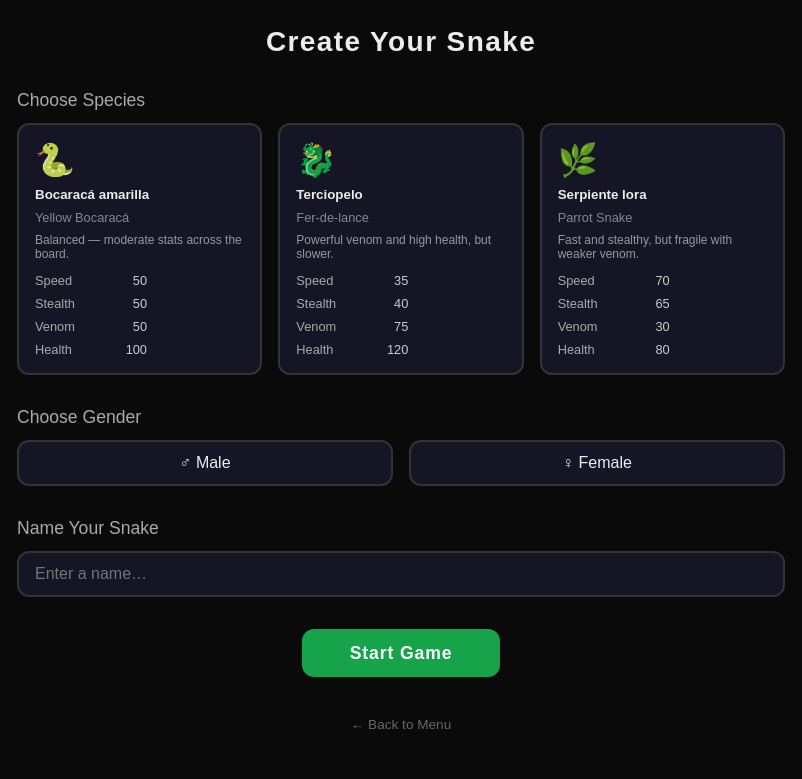
it: CharacterCreationPage › SC-2.2.2: Full creation flow › shows validation error when Start is clicked without selecting gender
The image size is (802, 779).
Click the radio button that starts with "Bocaracá amarilla" at coordinates (140, 249), box [17,123,262,375]
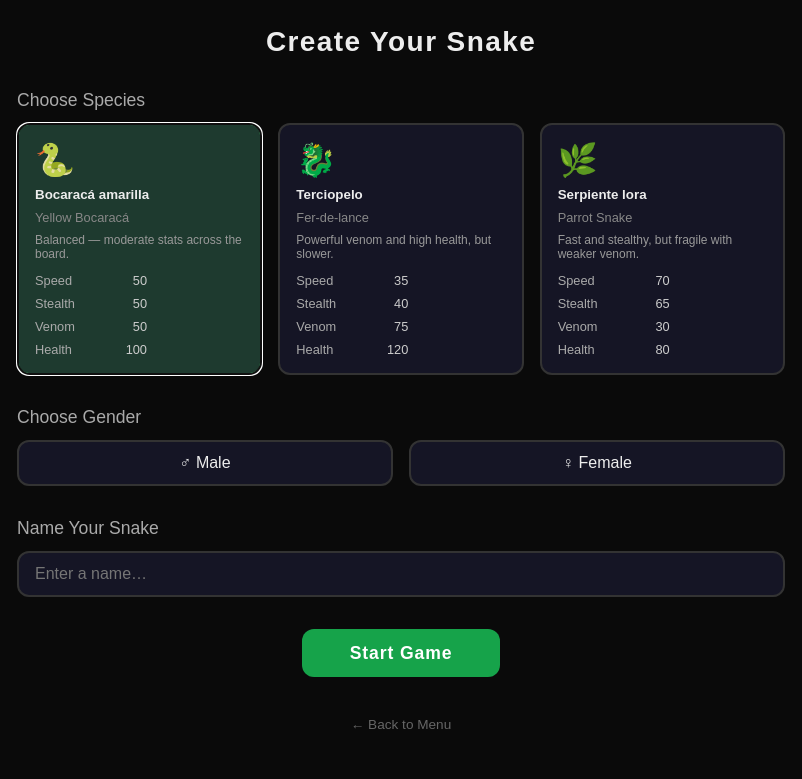
Type "Test" into the field labelled "Name Your Snake" at coordinates (401, 574), box [17,551,785,597]
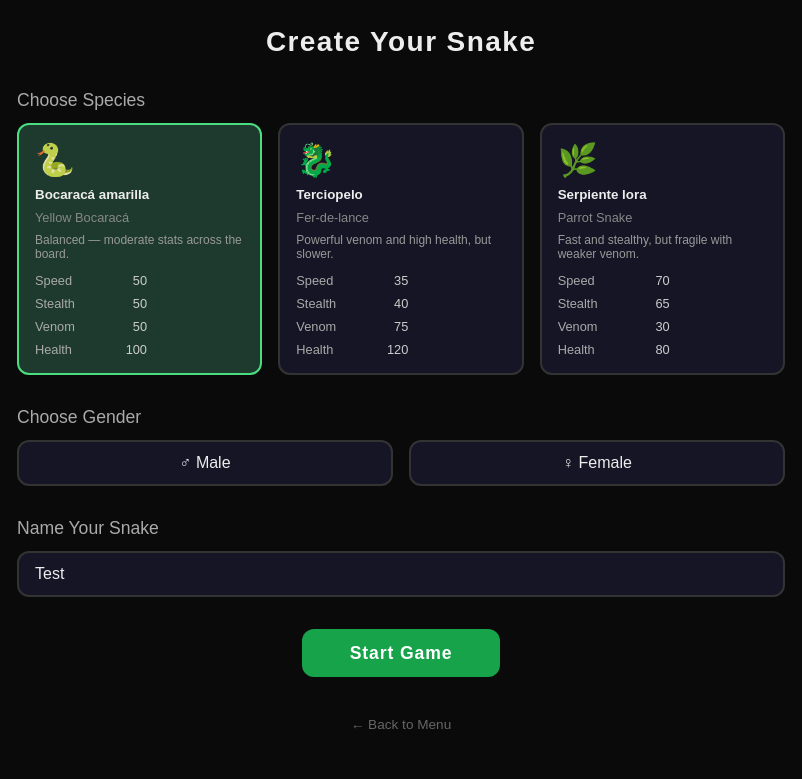
Click the button "Start Game" at coordinates (401, 653), box [302,629,500,677]
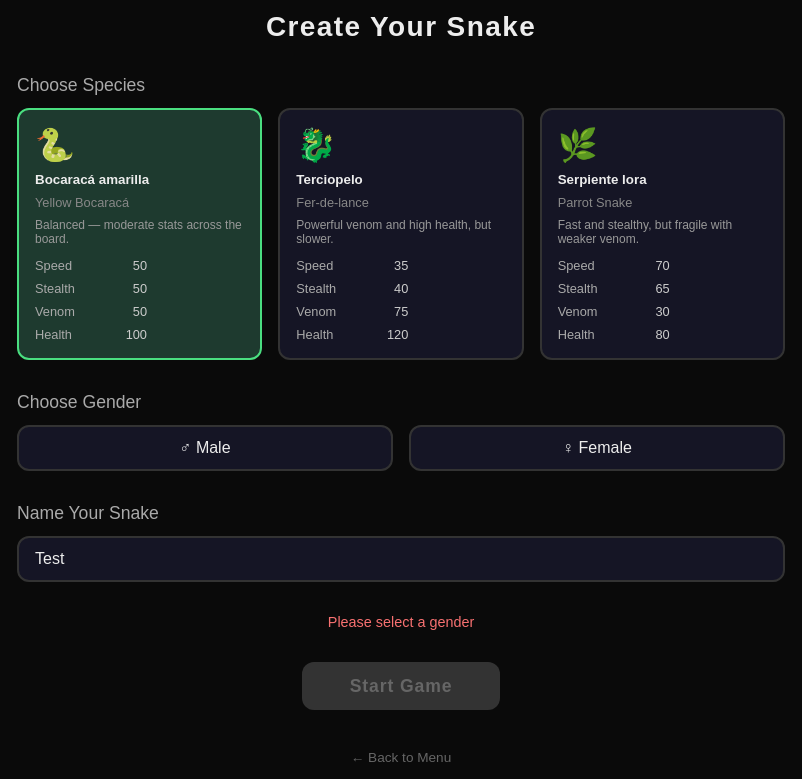
Expected: the text "Please select a gender" is shown, [328,614,474,630]
